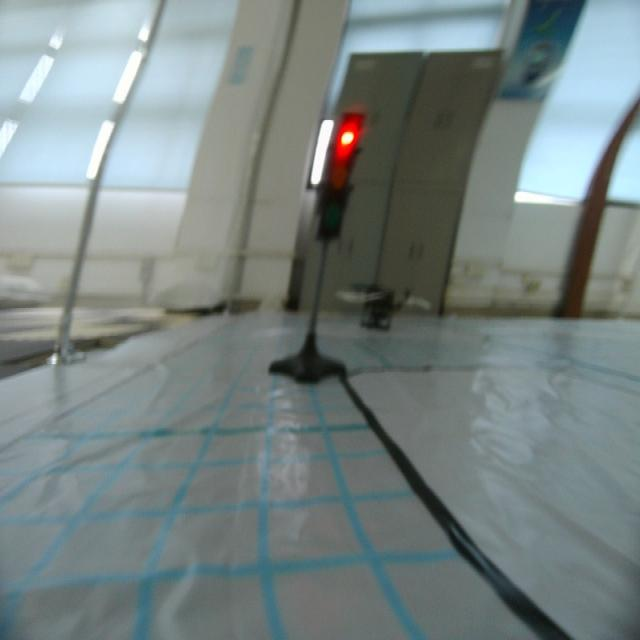red: (317, 108, 363, 246)
